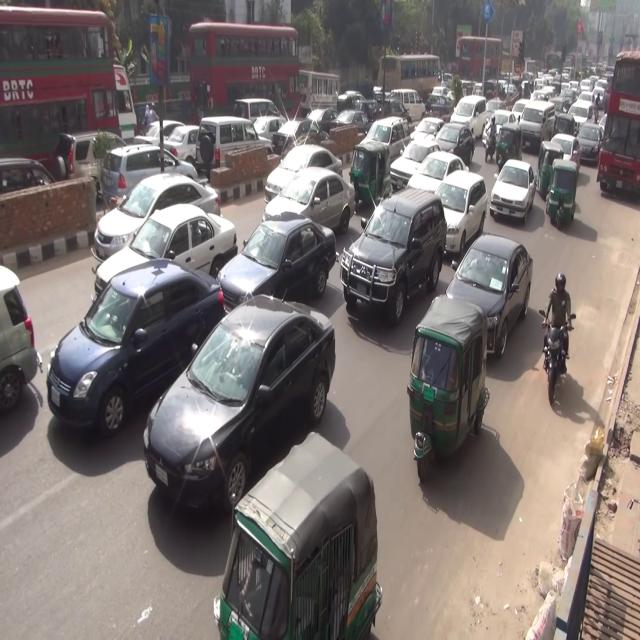black: (142, 292, 336, 514), (349, 196, 442, 320), (445, 232, 533, 358)
blue: (46, 257, 226, 439)
white: (95, 217, 242, 279), (436, 170, 484, 242), (488, 165, 540, 221)
